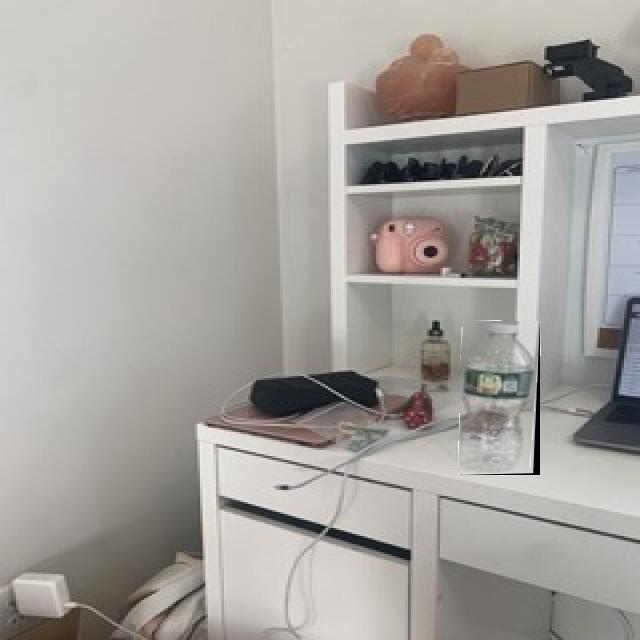water_bottle: (460, 321, 540, 475)
